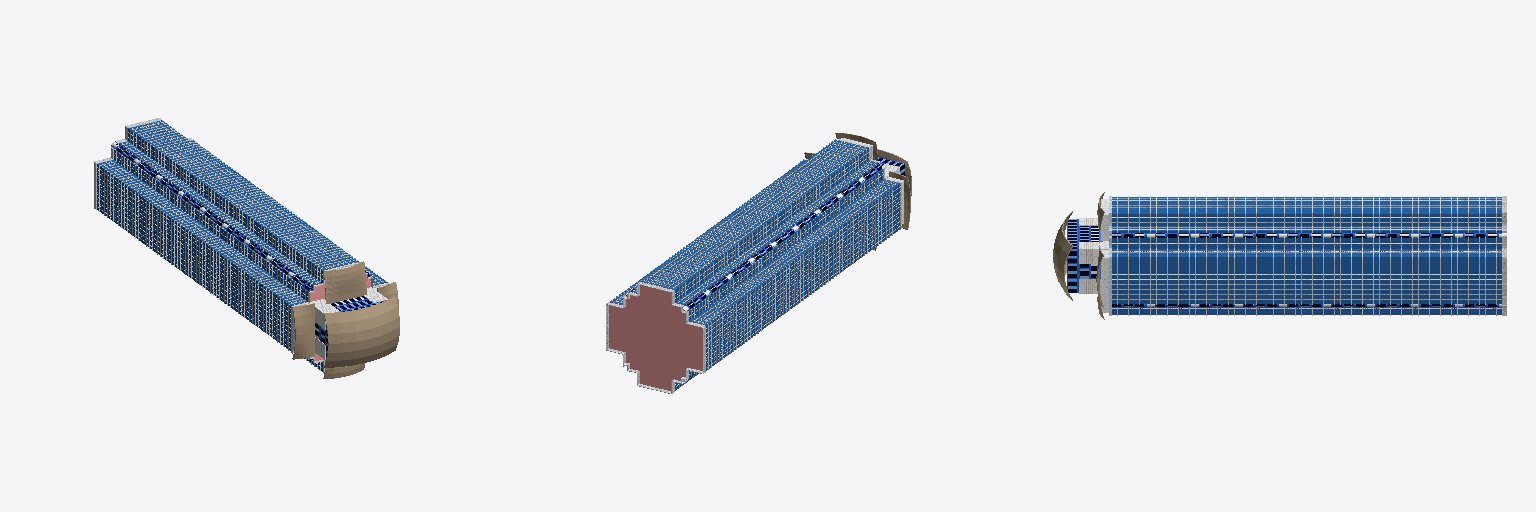
3 views of the same model, side by side, from view 1: azimuth 30°, elevation 25°; view 2: azimuth 150°, elevation 25°; view 3: azimuth 270°, elevation 25° (orthographic).
Parts seen in each view (by area): view 1: glass_01, roof_01, wall_05, wall_04, wall_02, wall_1_01, wall_2_01, frame_01, wall_1_02; view 2: glass_01, slab_01, wall_05, wall_04, wall_02, wall_1_01, roof_01, wall_01, frame_01; view 3: glass_01, wall_04, wall_02, wall_1_01, wall_1_02, roof_01, wall_2_01, wall_2_02, frame_01, wall_01.
Part boxes in pixels (x1,y1,x2,y2): glass_01: (97,120,387,371); roof_01: (292,261,399,378); wall_05: (96,120,387,371); wall_04: (97,120,382,367); wall_02: (102,122,385,366); wall_1_01: (114,145,368,359); wall_2_01: (310,287,387,359); frame_01: (97,122,375,365); wall_1_02: (315,296,385,357); glass_01: (610,140,899,390); slab_01: (609,285,702,390); wall_05: (606,139,900,393); wall_04: (613,140,900,386); wall_02: (612,141,895,383); wall_1_01: (629,164,881,378); roof_01: (804,133,911,250); wall_01: (606,282,705,393); frame_01: (618,142,899,384); glass_01: (1112,197,1501,314); wall_04: (1112,198,1501,299); wall_02: (1117,196,1496,315); wall_1_01: (1112,233,1501,306); wall_1_02: (1067,219,1108,292); roof_01: (1053,192,1104,319); wall_2_01: (1079,218,1108,293); wall_2_02: (1101,199,1108,312); frame_01: (1112,251,1501,308); wall_01: (1502,196,1506,315).
Size of the model in its own units: 2568 by 2568 by 9782.
Materials: 7 (4 with a texture image).